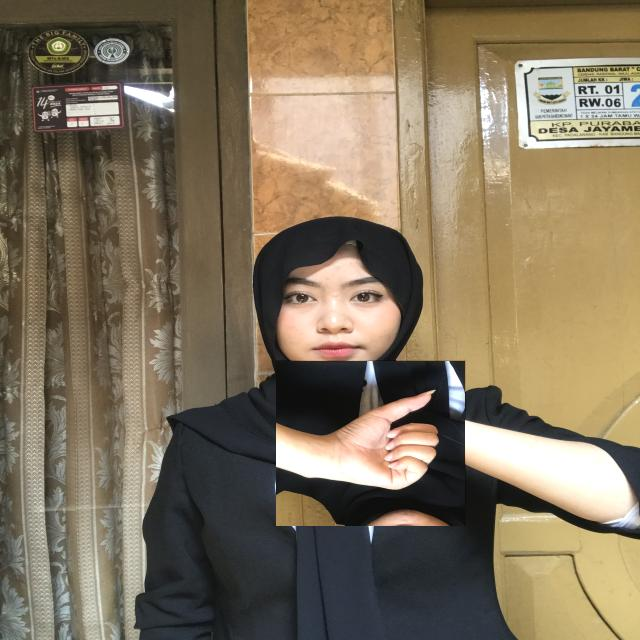sedih: (276, 360, 466, 526)
